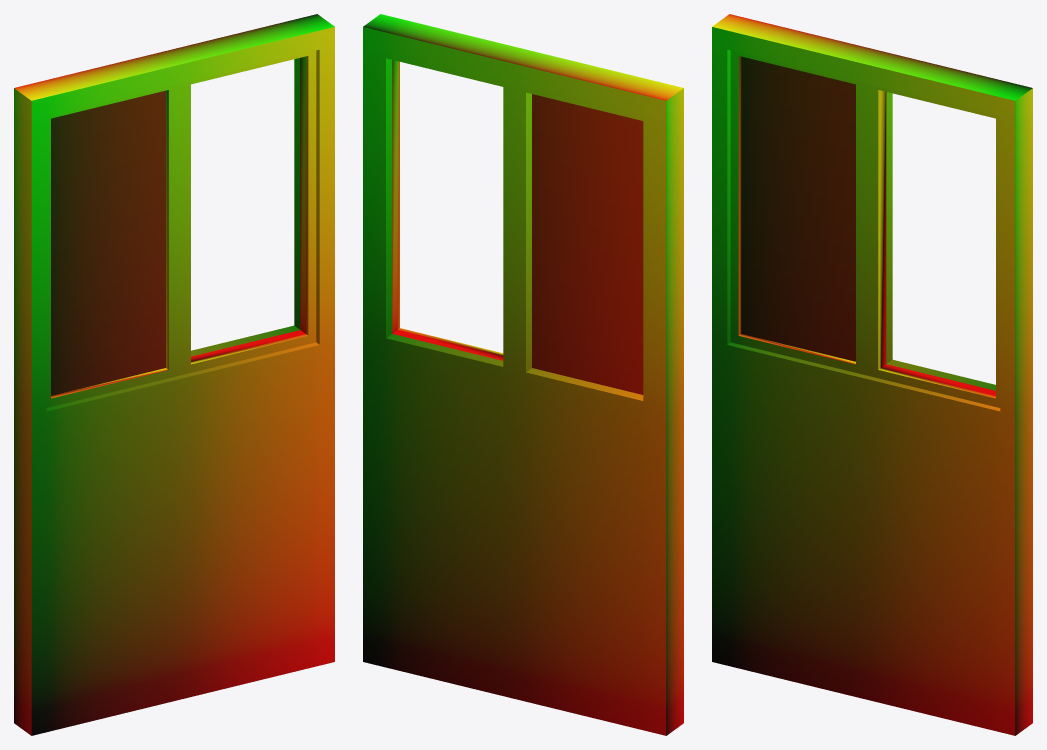
The model's file is Damaged_Window_2.fbx.
The picture shows the model from 3 angles, left to right: view 1: azimuth 30°, elevation 25°; view 2: azimuth 150°, elevation 25°; view 3: azimuth 330°, elevation 25°; orthographic projection.
Visible parts, largest first — view 1: Box001; view 2: Box001; view 3: Box001.
Boxes of the visible parts, x1=… form: Box001: x1=14, y1=14, x2=334, y2=735; Box001: x1=363, y1=14, x2=683, y2=735; Box001: x1=712, y1=14, x2=1032, y2=735.
Bounding box in the file's own units: 100 × 200 × 10.
